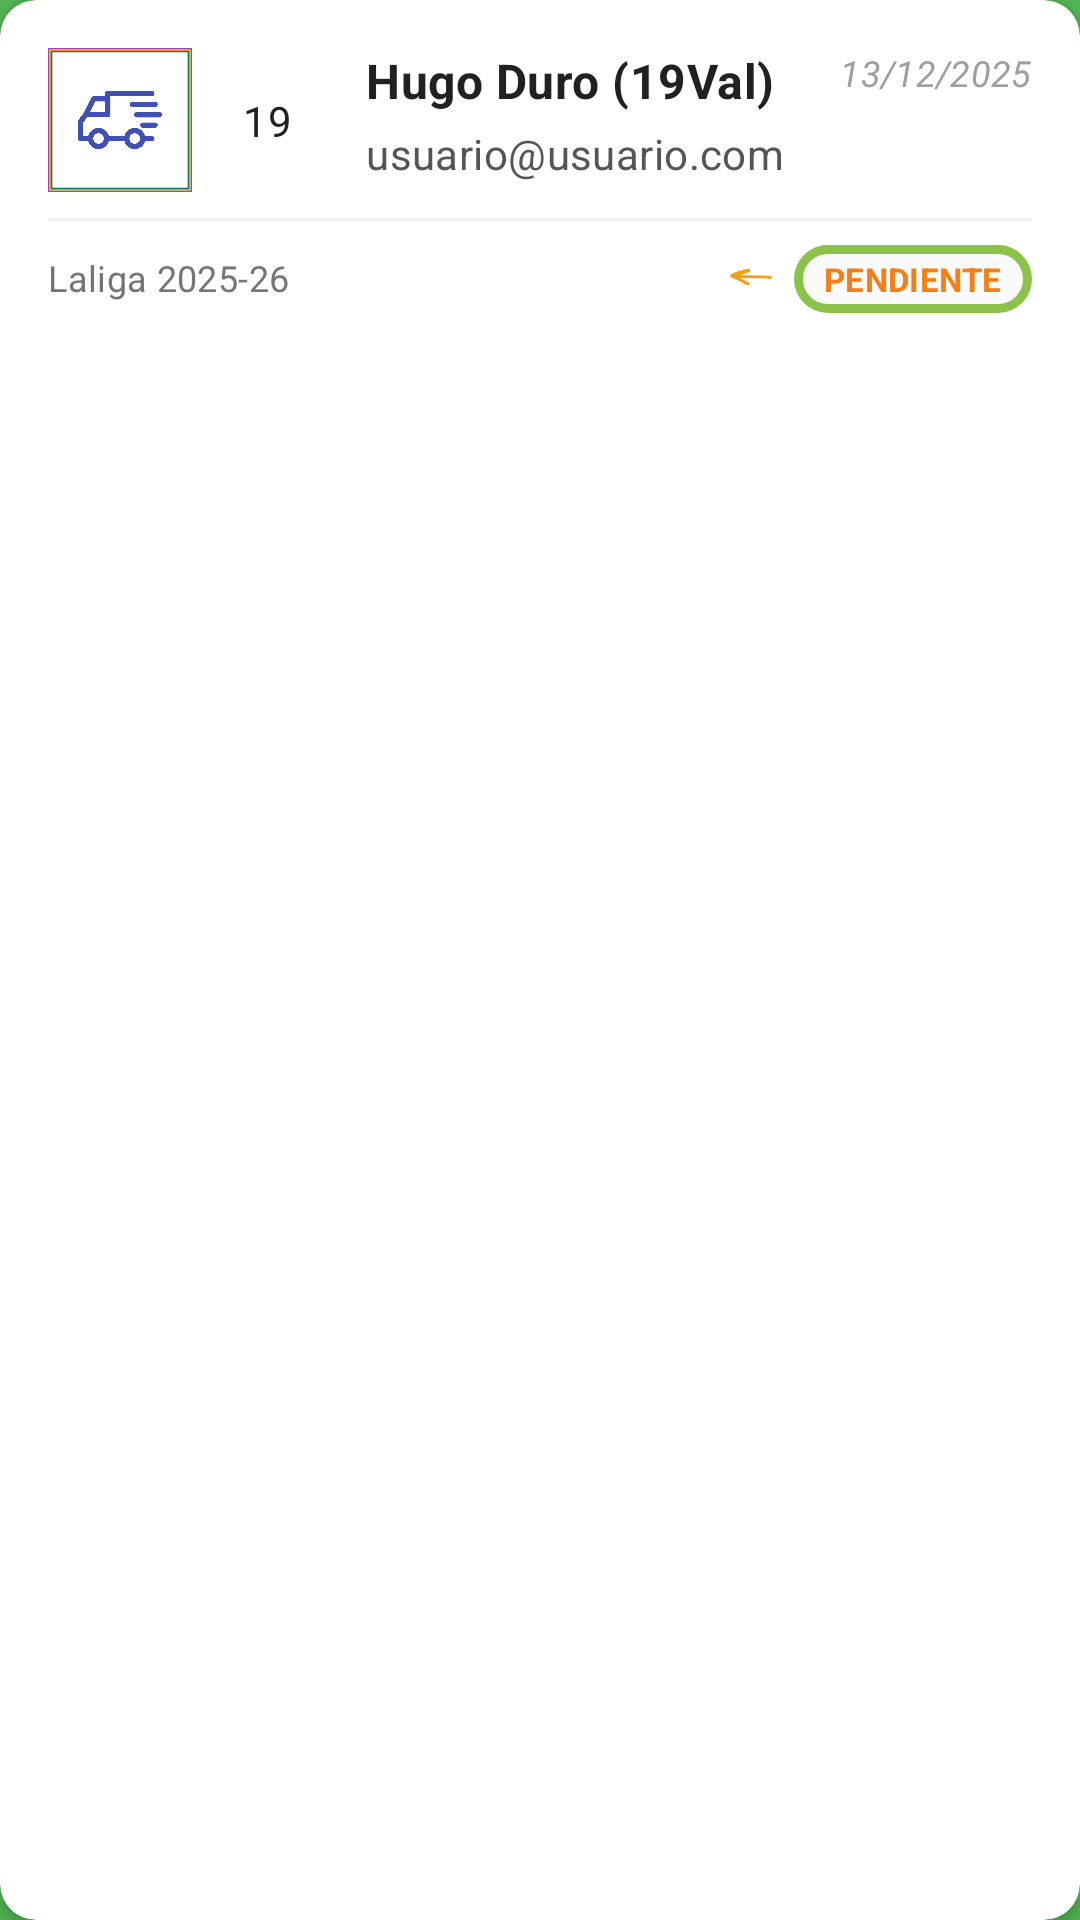

Icon bounding boxes for this 1080x1920 phone screenshot, format (left=x1, top=y1, right=x2, bottom=y2):
arrowizq: (left=730, top=268, right=772, bottom=286)
entrega inv: (left=48, top=48, right=192, bottom=192)
